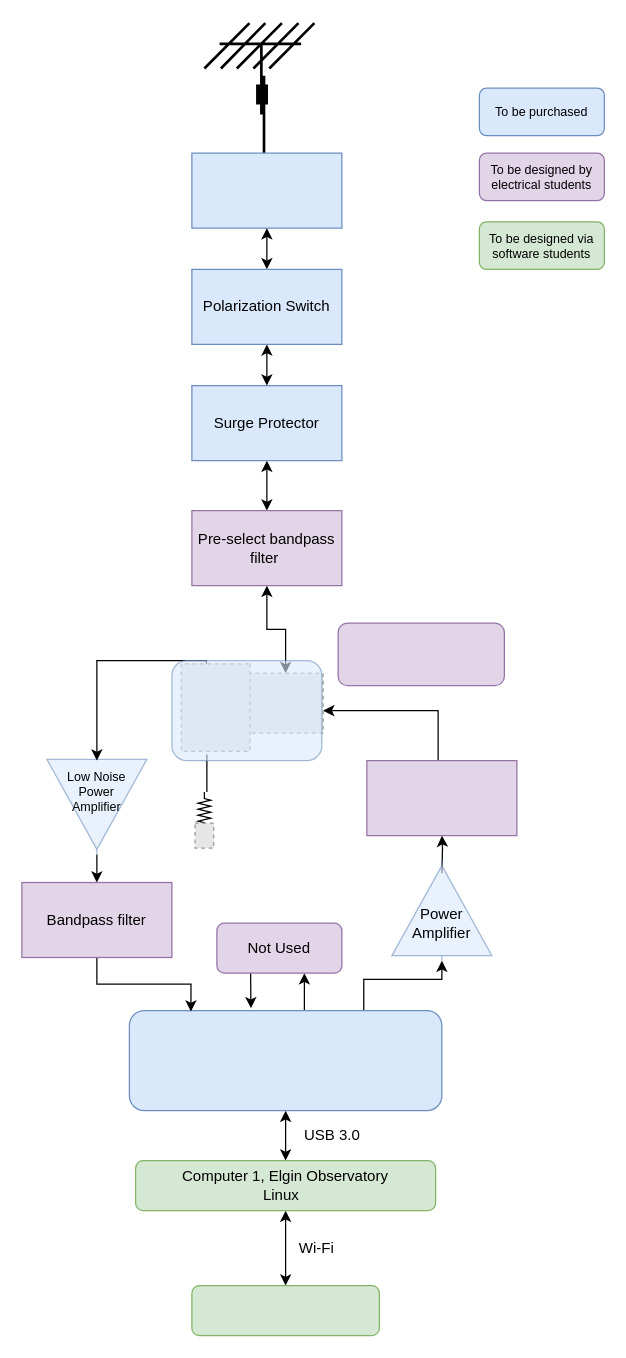
The diagram is 626 pixels wide and 1358 high, and some of its shapes have lost their labels. Grey dashed boxes stand in for pictures. Here are the shapes that lost their labels. From the top down, the box of each, then its label:
(191, 152, 342, 228): 436CP16 UHF Circular Polarized Yagi Uda Antenna N Female 50 Ohm
(337, 622, 504, 686): Dual / Single Junction Circulator to separate the TX and RX chain
(366, 759, 517, 836): Low Pass Filter Designed By Students / Notch filers for OIP3
(128, 1009, 442, 1111): SDR Transceiver USRB B210 2 Rx, 2 TX 70MHz - 6GHz
(191, 1284, 379, 1336): Computer 2,Campus Linux
